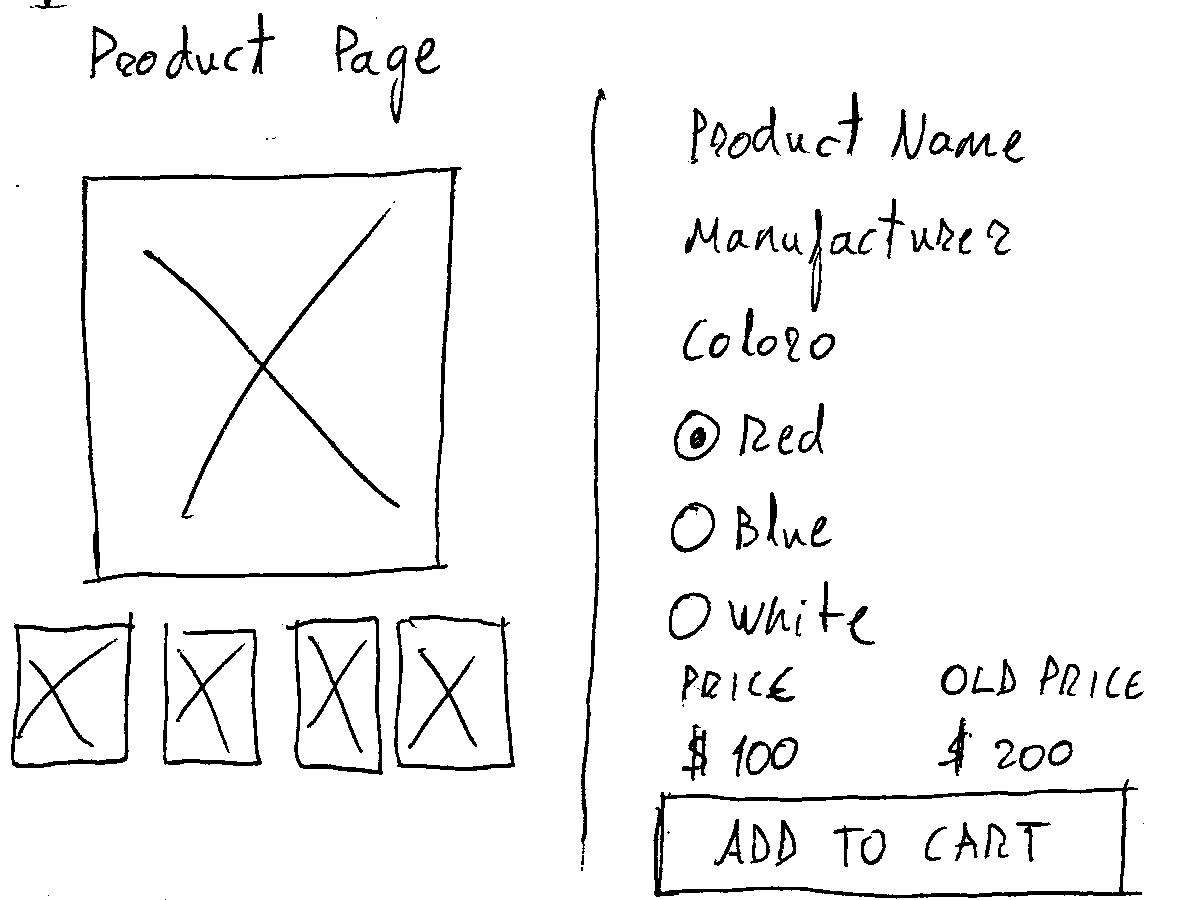Button: (650, 782, 1145, 900)
Image: (73, 157, 466, 581), (391, 609, 518, 776), (10, 619, 135, 772), (279, 613, 393, 778), (157, 619, 263, 767)
Radio Button: (659, 581, 878, 648), (669, 487, 840, 560), (666, 398, 829, 464)
